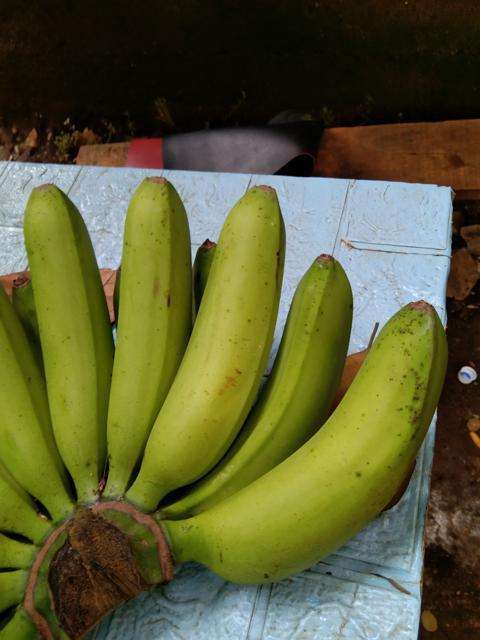freshunripe: (194, 292, 448, 588), (134, 175, 287, 514), (177, 246, 358, 517), (95, 171, 195, 495), (20, 179, 124, 463)
